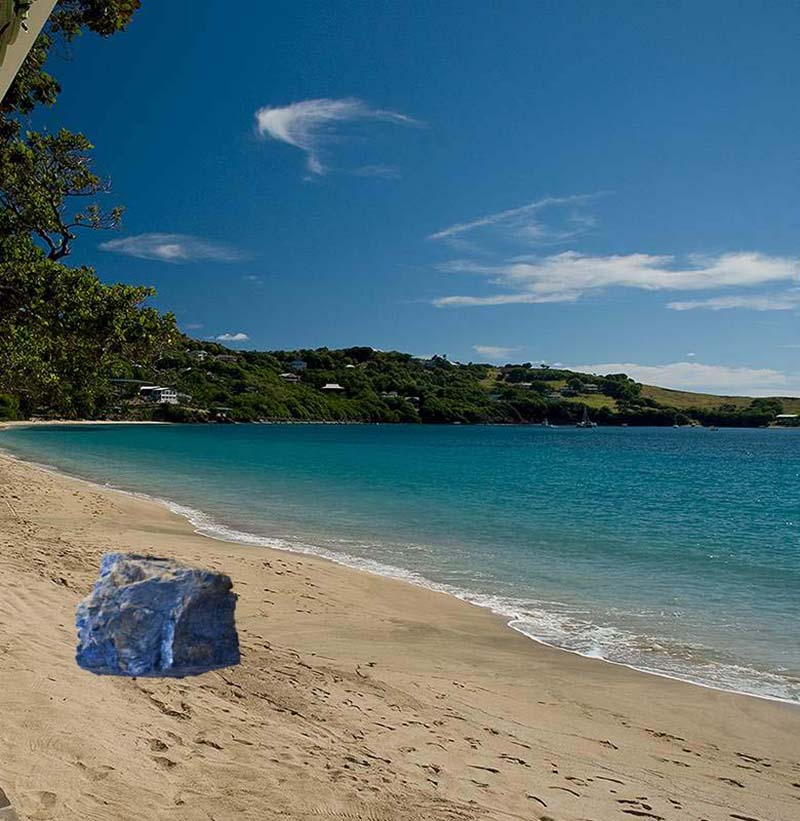Rocks: (64, 547, 251, 680)
